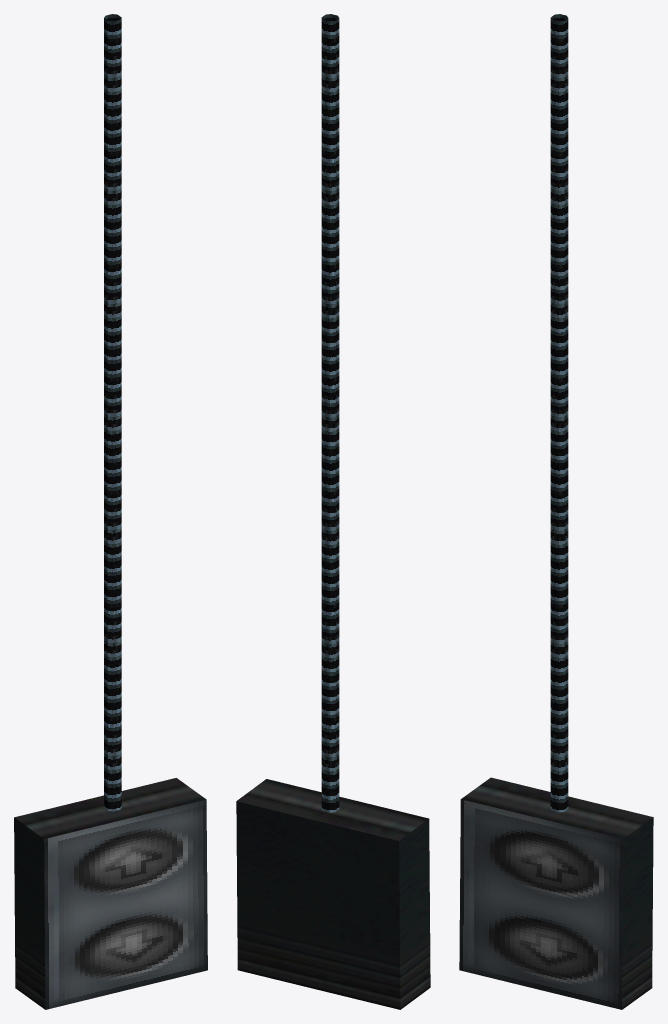
Rendered from ControlLaunch.fbx.
3 views of the same model, side by side, from view 1: azimuth 30°, elevation 25°; view 2: azimuth 150°, elevation 25°; view 3: azimuth 330°, elevation 25° (orthographic).
Parts seen in each view (by area): view 1: Plane.002; view 2: Plane.002; view 3: Plane.002.
Part boxes in pixels (<box>): Plane.002: <box>14,14,207,1009</box>; Plane.002: <box>236,14,430,1009</box>; Plane.002: <box>459,14,653,1009</box>.
Size of the model in its own units: 16.01 by 90.45 by 5.37.
